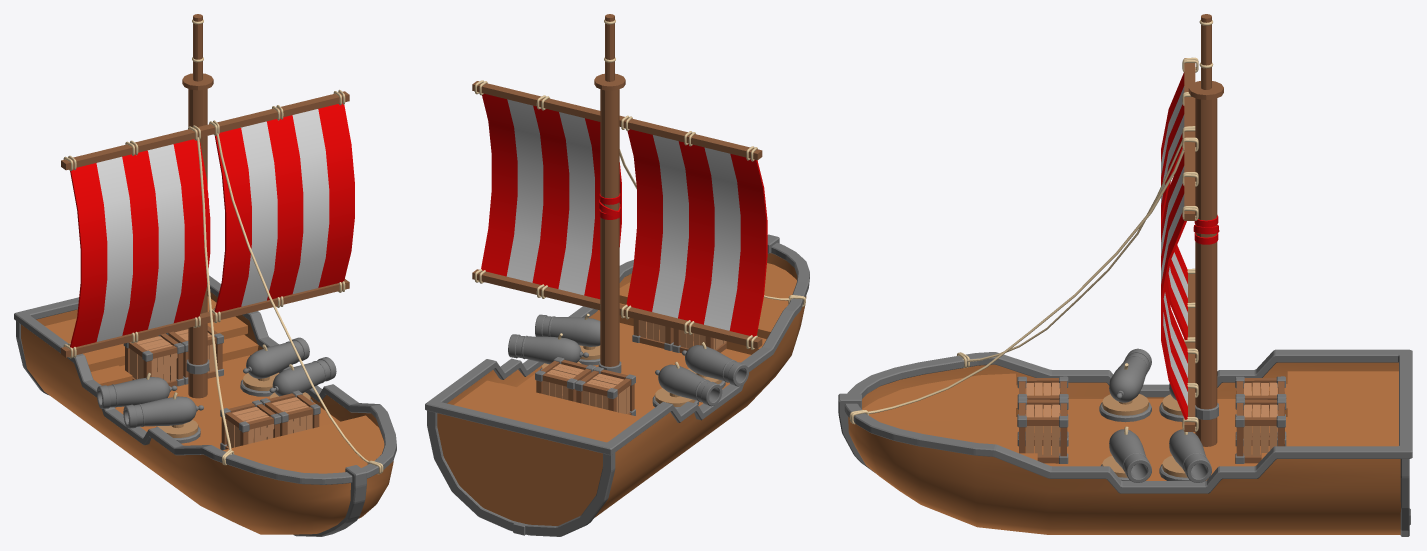
Rendered from Ship_large.fbx.
3 views of the same model, side by side, from view 1: azimuth 30°, elevation 25°; view 2: azimuth 150°, elevation 25°; view 3: azimuth 270°, elevation 25° (orthographic). The views are drawn at different scales.
Visible parts, largest first — view 1: Barca2; view 2: Barca2; view 3: Barca2.
Part boxes in pixels (box(x1,y1,x2,y2)): Barca2: box(14, 14, 396, 536); Barca2: box(425, 14, 809, 536); Barca2: box(838, 14, 1412, 536).
Size of the model in its own units: 248 by 375 by 386.
